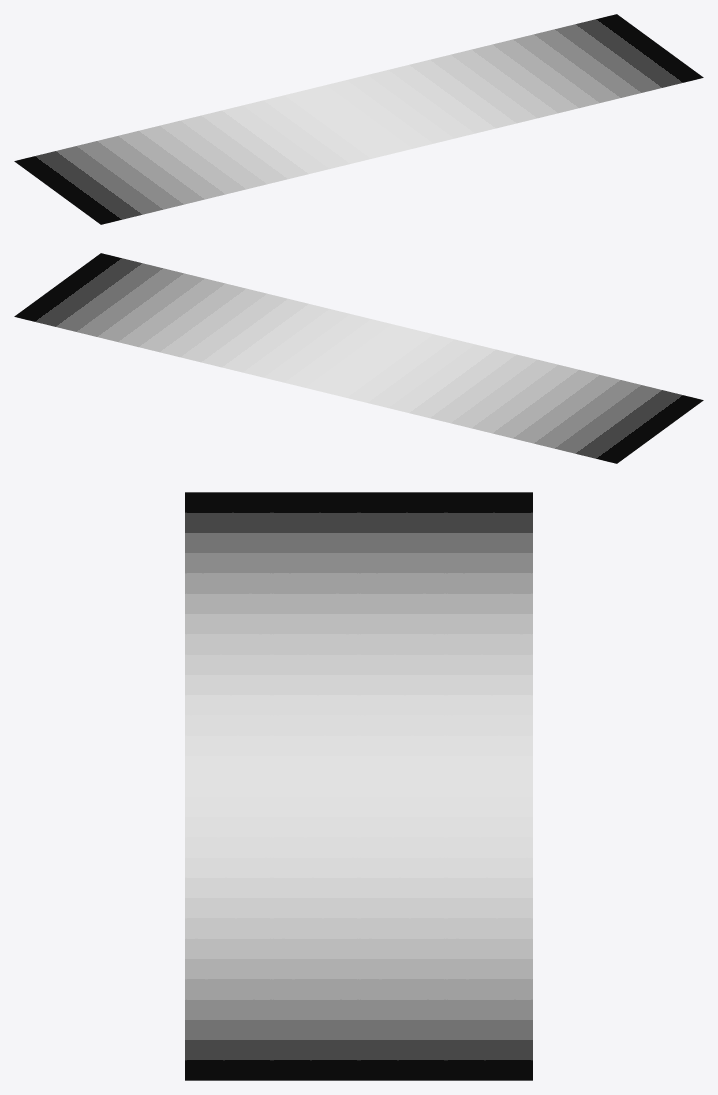
The model's file is bars.glb.
3 views of the same model, one above another, from view 1: azimuth 30°, elevation 25°; view 2: azimuth 150°, elevation 25°; view 3: azimuth 270°, elevation 25° (orthographic). The views are drawn at different scales.
Visible parts, largest first — view 1: bars; view 2: bars; view 3: bars.
Boxes of the visible parts, left/top/right/bottom form: bars: left=14, top=14, right=703, bottom=224; bars: left=14, top=253, right=703, bottom=463; bars: left=185, top=492, right=532, bottom=1080.
Size of the model in its own units: 4 by 0 by 1.
Materials: 1 (1 with a texture image).
